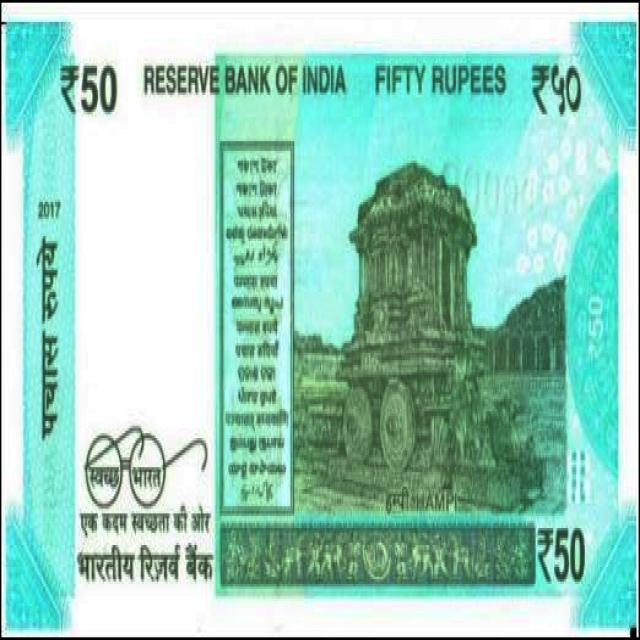50rs: (1, 29, 640, 623)
